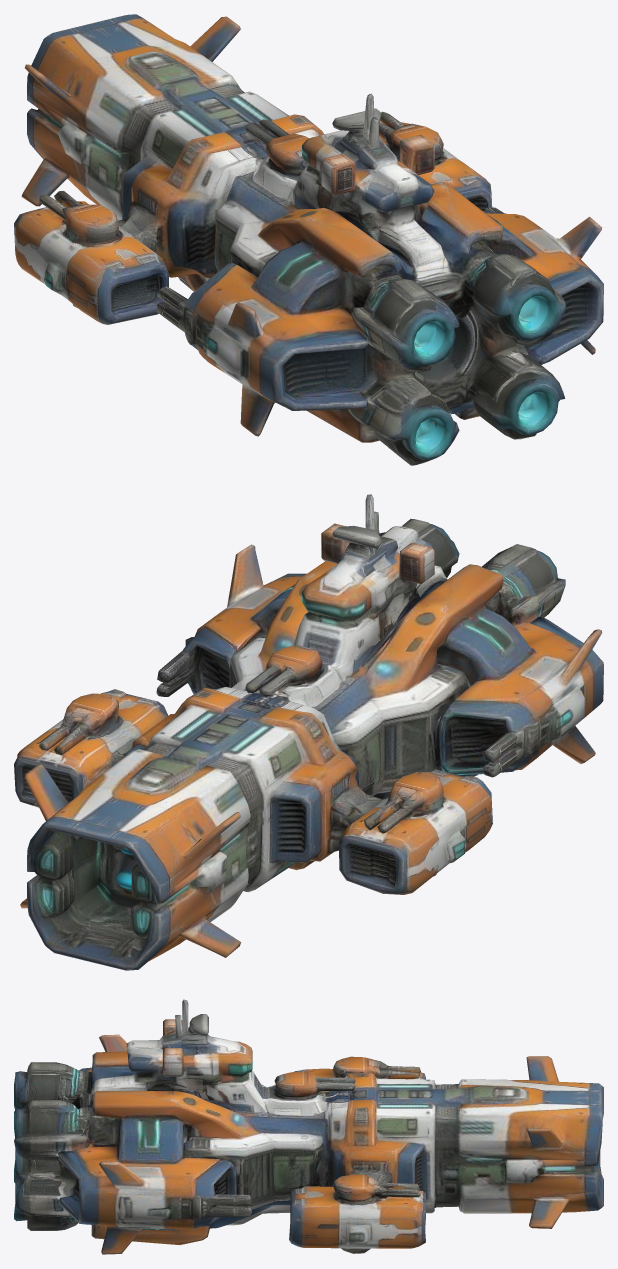
The model's file is aen.glb.
3 renders of one model, top to bottom at view 1: azimuth 30°, elevation 25°; view 2: azimuth 150°, elevation 25°; view 3: azimuth 270°, elevation 25°, orthographic. The views are drawn at different scales.
Parts seen in each view (by area): view 1: Mesh_0.027; view 2: Mesh_0.027; view 3: Mesh_0.027.
Boxes of the visible parts, box(x1,y1,x2,y2) form: Mesh_0.027: box(14, 14, 603, 465); Mesh_0.027: box(14, 494, 603, 970); Mesh_0.027: box(14, 999, 603, 1254).
Size of the model in its own units: 1.15 by 0.7906 by 1.91.
1 material, 1 textured.
